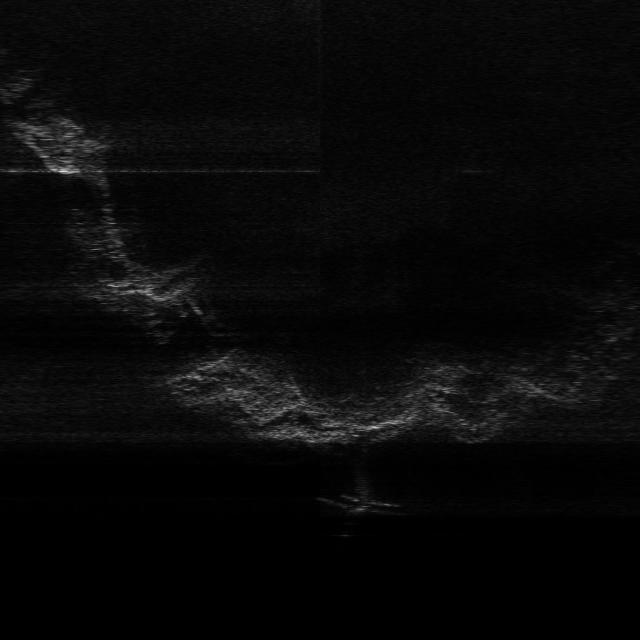plane: (314, 491, 408, 518)
